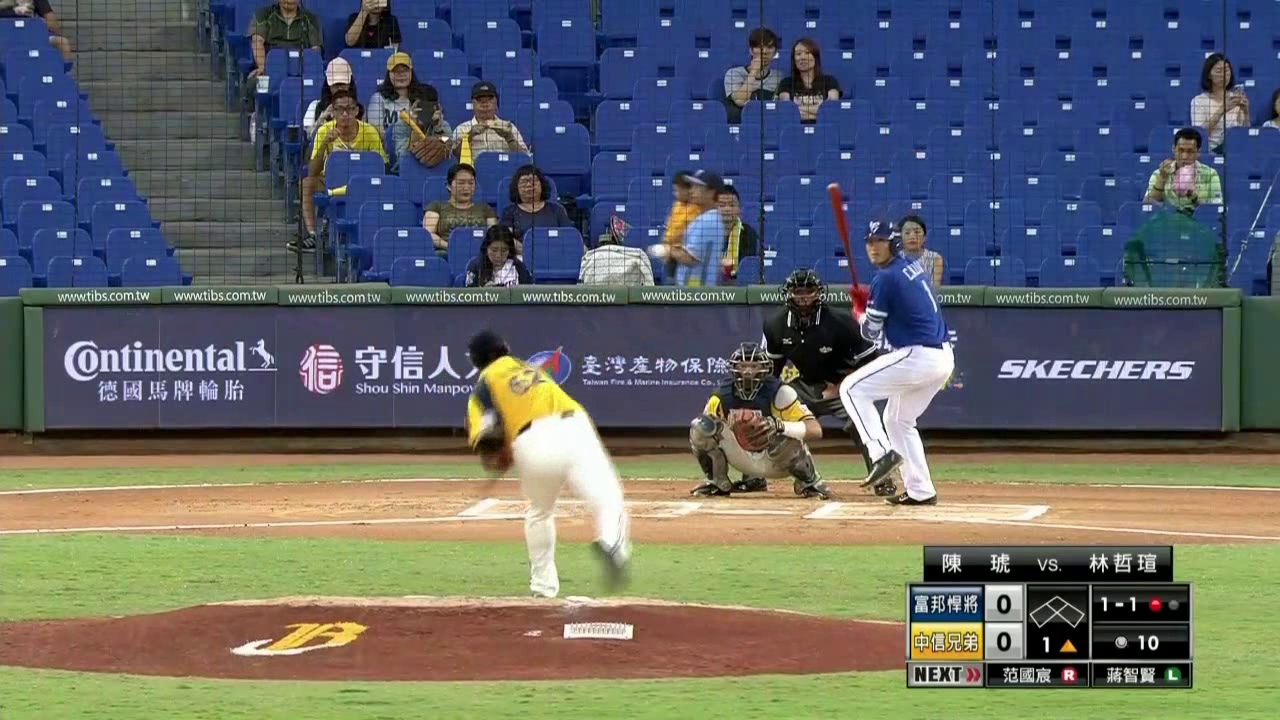ball: (653, 245, 667, 256)
base: (1027, 593, 1086, 631)
bat: (828, 184, 860, 287)
out: (1145, 592, 1183, 614)
score1: (988, 591, 1021, 619)
score2: (988, 627, 1022, 657)
session: (1030, 635, 1084, 658)
strikeball: (1094, 589, 1140, 619)
total: (1108, 629, 1163, 658)
